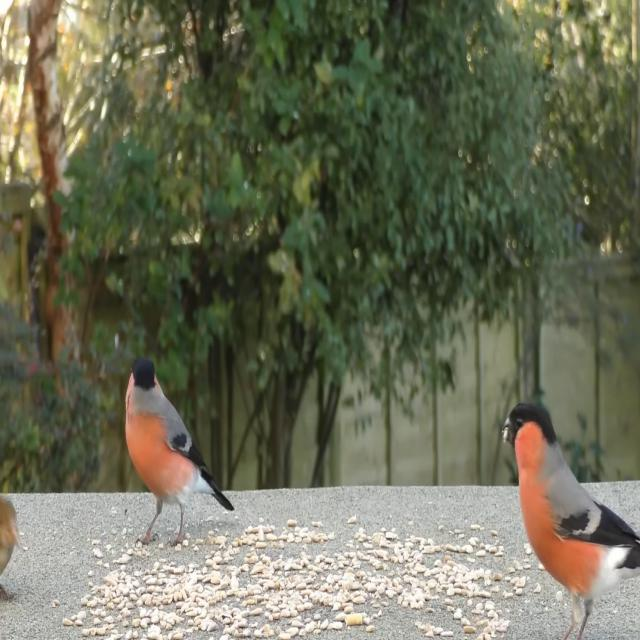beak: (501, 410, 518, 447)
bird: (498, 385, 640, 640), (120, 356, 234, 563), (0, 455, 21, 615)
